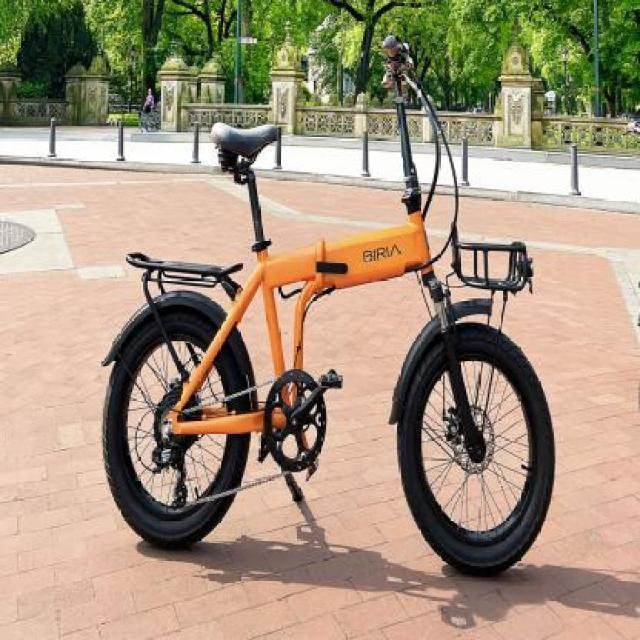bicycle: (101, 28, 558, 574)
